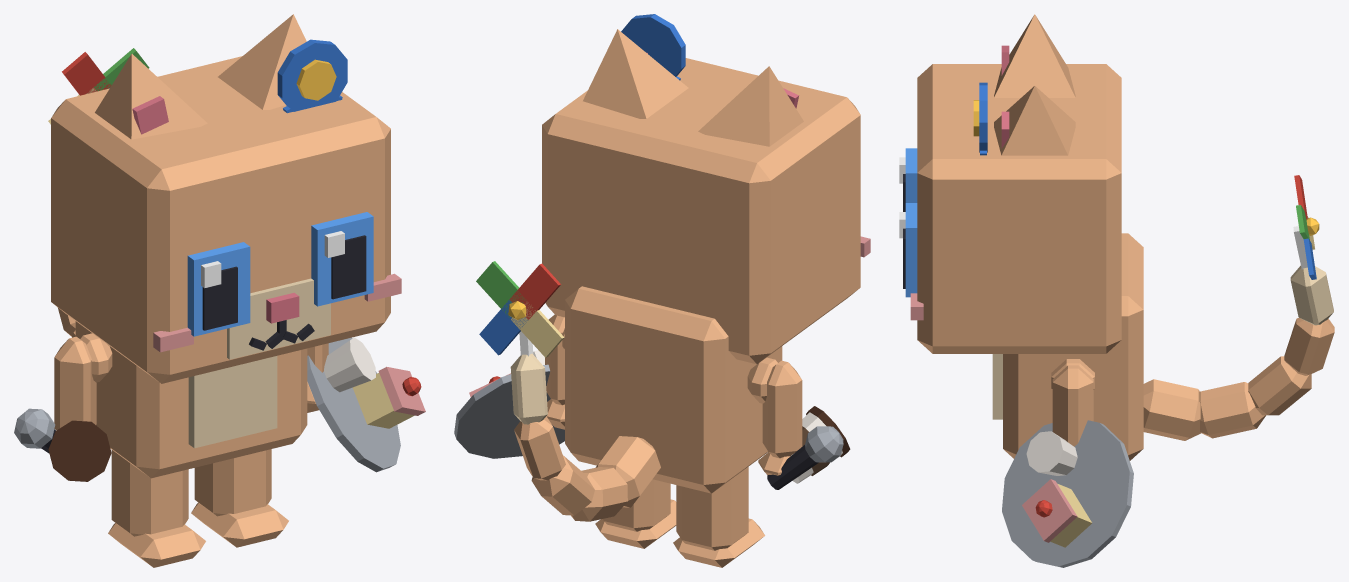
File: CatCafe_Cat_Pinwheel_Work.fbx
3 views of the same model, side by side, from view 1: azimuth 30°, elevation 25°; view 2: azimuth 150°, elevation 25°; view 3: azimuth 270°, elevation 25° (orthographic). The views are drawn at different scales.
Parts seen in each view (by area): view 1: CatCafe_Cat_Pinwheel_Work_Head, CatCafe_Cat_Pinwheel_Work_Body, CatCafe_Cat_Pinwheel_Work_Held_Waiter, CatCafe_Cat_Pinwheel_Work_LegB2, CatCafe_Cat_Pinwheel_Work_LegB1, CatCafe_Cat_Pinwheel_Work_Eye2, CatCafe_Cat_Pinwheel_Work_Eye1, CatCafe_Cat_Pinwheel_Work_EarR, CatCafe_Cat_Pinwheel_Work_Prop, CatCafe_Cat_Pinwheel_Work_EarL, CatCafe_Cat_Pinwheel_Work_LegF2, CatCafe_Cat_Pinwheel_Work_Held_Barista (+3 smaller); view 2: CatCafe_Cat_Pinwheel_Work_Head, CatCafe_Cat_Pinwheel_Work_Body, CatCafe_Cat_Pinwheel_Work_Tail, CatCafe_Cat_Pinwheel_Work_LegB2, CatCafe_Cat_Pinwheel_Work_Tail_Pinwheel, CatCafe_Cat_Pinwheel_Work_EarL, CatCafe_Cat_Pinwheel_Work_EarR, CatCafe_Cat_Pinwheel_Work_Held_Waiter, CatCafe_Cat_Pinwheel_Work_LegF2, CatCafe_Cat_Pinwheel_Work_LegB1, CatCafe_Cat_Pinwheel_Work_Prop, CatCafe_Cat_Pinwheel_Work_Held_Entertainer (+2 smaller); view 3: CatCafe_Cat_Pinwheel_Work_Head, CatCafe_Cat_Pinwheel_Work_Held_Waiter, CatCafe_Cat_Pinwheel_Work_Body, CatCafe_Cat_Pinwheel_Work_Tail, CatCafe_Cat_Pinwheel_Work_EarL, CatCafe_Cat_Pinwheel_Work_EarR, CatCafe_Cat_Pinwheel_Work_LegF1, CatCafe_Cat_Pinwheel_Work_Eye1, CatCafe_Cat_Pinwheel_Work_Tail_Pinwheel, CatCafe_Cat_Pinwheel_Work_Eye2, CatCafe_Cat_Pinwheel_Work_Prop.
Part boxes in pixels (x1=…): CatCafe_Cat_Pinwheel_Work_Head: x1=51, y1=56, x2=401, y2=383; CatCafe_Cat_Pinwheel_Work_Body: x1=75, y1=321, x2=307, y2=478; CatCafe_Cat_Pinwheel_Work_Held_Waiter: x1=307, y1=337, x2=425, y2=472; CatCafe_Cat_Pinwheel_Work_LegB2: x1=108, y1=450, x2=205, y2=567; CatCafe_Cat_Pinwheel_Work_LegB1: x1=191, y1=449, x2=288, y2=547; CatCafe_Cat_Pinwheel_Work_Eye2: x1=187, y1=242, x2=250, y2=336; CatCafe_Cat_Pinwheel_Work_Eye1: x1=311, y1=212, x2=373, y2=306; CatCafe_Cat_Pinwheel_Work_EarR: x1=95, y1=53, x2=207, y2=139; CatCafe_Cat_Pinwheel_Work_Prop: x1=277, y1=39, x2=347, y2=113; CatCafe_Cat_Pinwheel_Work_EarL: x1=218, y1=14, x2=306, y2=109; CatCafe_Cat_Pinwheel_Work_LegF2: x1=54, y1=336, x2=96, y2=430; CatCafe_Cat_Pinwheel_Work_Held_Barista: x1=48, y1=420, x2=111, y2=481; CatCafe_Cat_Pinwheel_Work_Head: x1=542, y1=58, x2=870, y2=364; CatCafe_Cat_Pinwheel_Work_Body: x1=562, y1=286, x2=782, y2=493; CatCafe_Cat_Pinwheel_Work_Tail: x1=510, y1=353, x2=660, y2=521; CatCafe_Cat_Pinwheel_Work_LegB2: x1=673, y1=467, x2=764, y2=567; CatCafe_Cat_Pinwheel_Work_Tail_Pinwheel: x1=476, y1=261, x2=564, y2=357; CatCafe_Cat_Pinwheel_Work_EarL: x1=583, y1=29, x2=688, y2=118; CatCafe_Cat_Pinwheel_Work_EarR: x1=698, y1=66, x2=803, y2=146; CatCafe_Cat_Pinwheel_Work_Held_Waiter: x1=454, y1=350, x2=564, y2=458; CatCafe_Cat_Pinwheel_Work_LegF2: x1=758, y1=360, x2=802, y2=475; CatCafe_Cat_Pinwheel_Work_LegB1: x1=595, y1=479, x2=676, y2=548; CatCafe_Cat_Pinwheel_Work_Prop: x1=621, y1=14, x2=685, y2=80; CatCafe_Cat_Pinwheel_Work_Held_Entertainer: x1=767, y1=426, x2=843, y2=489; CatCafe_Cat_Pinwheel_Work_Head: x1=910, y1=64, x2=1121, y2=353; CatCafe_Cat_Pinwheel_Work_Held_Waiter: x1=1002, y1=420, x2=1133, y2=567; CatCafe_Cat_Pinwheel_Work_Body: x1=992, y1=233, x2=1143, y2=460; CatCafe_Cat_Pinwheel_Work_Tail: x1=1143, y1=265, x2=1334, y2=440; CatCafe_Cat_Pinwheel_Work_EarL: x1=994, y1=86, x2=1075, y2=155; CatCafe_Cat_Pinwheel_Work_EarR: x1=994, y1=14, x2=1075, y2=97; CatCafe_Cat_Pinwheel_Work_LegF1: x1=1052, y1=365, x2=1093, y2=446; CatCafe_Cat_Pinwheel_Work_Eye1: x1=899, y1=203, x2=917, y2=297; CatCafe_Cat_Pinwheel_Work_Tail_Pinwheel: x1=1293, y1=175, x2=1319, y2=279; CatCafe_Cat_Pinwheel_Work_Eye2: x1=899, y1=148, x2=917, y2=211; CatCafe_Cat_Pinwheel_Work_Prop: x1=973, y1=82, x2=987, y2=155.
Size of the model in its own units: 1.53 by 1.93 by 1.62.
1 material, 1 textured.
